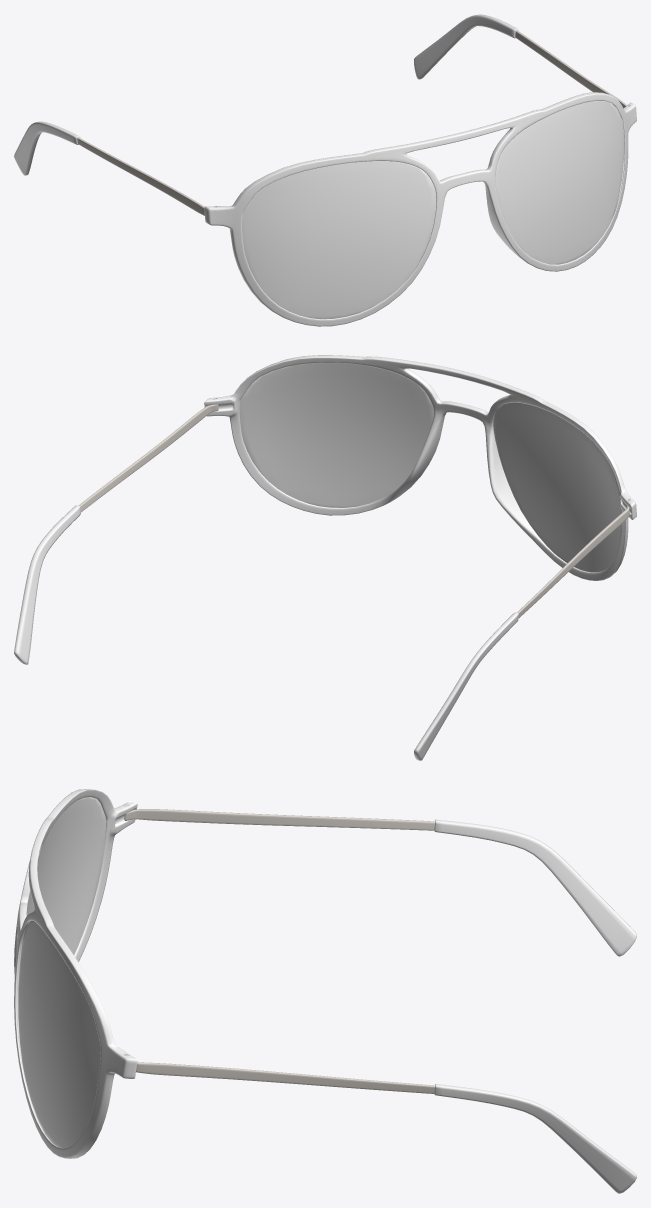
The model's file is Transparent-Full-Rim-Aviator-Eyeglasses.glb.
The picture shows the model from 3 angles, top to bottom: view 1: azimuth 30°, elevation 25°; view 2: azimuth 150°, elevation 25°; view 3: azimuth 270°, elevation 25°; orthographic projection. The views are drawn at different scales.
Parts seen in each view (by area): view 1: Assets; view 2: Assets; view 3: Assets.
Boxes of the visible parts, box(x1,y1,x2,y2) form: Assets: box(14, 14, 636, 326); Assets: box(14, 355, 636, 760); Assets: box(14, 789, 636, 1193).
Size of the model in its own units: 0.1294 by 0.0467 by 0.1273.
3 materials, 2 textured.
